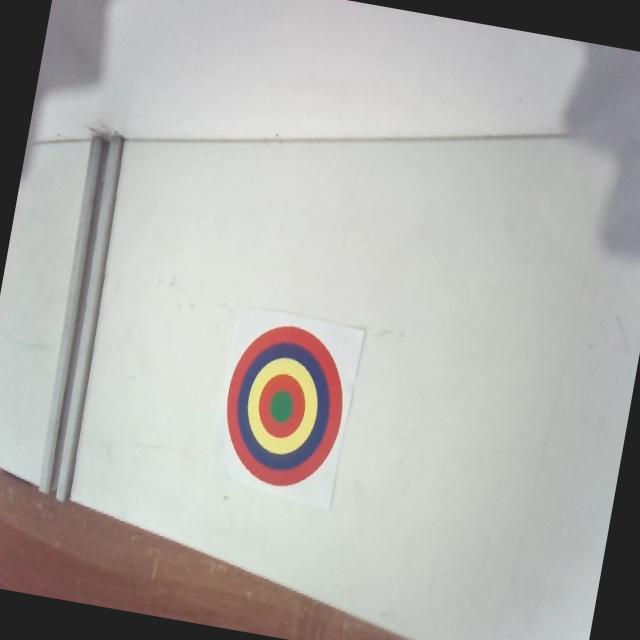cogn: (211, 312, 358, 498)
